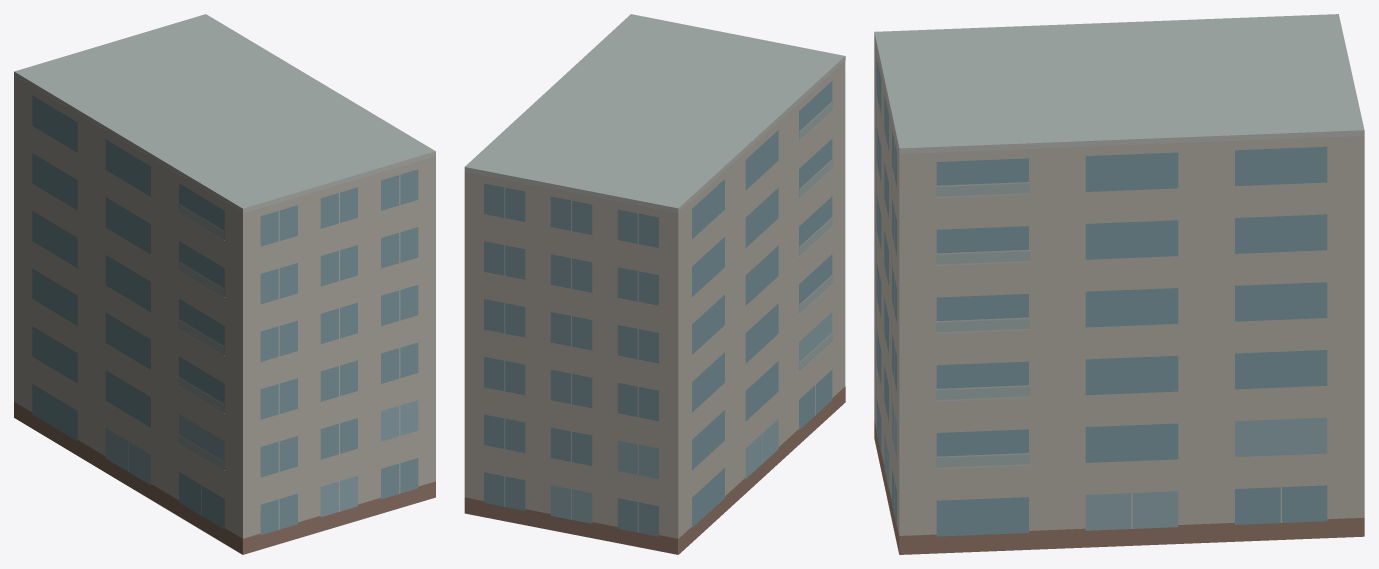
The model's file is survey-upis-33020794.glb.
The picture shows the model from 3 angles, left to right: view 1: azimuth 30°, elevation 25°; view 2: azimuth 150°, elevation 25°; view 3: azimuth 270°, elevation 25°; orthographic projection. The views are drawn at different scales.
Visible parts, largest first — view 1: survey-upis-33020794.tmp; view 2: survey-upis-33020794.tmp; view 3: survey-upis-33020794.tmp.
Boxes of the visible parts, x1=… form: survey-upis-33020794.tmp: x1=14, y1=14, x2=435, y2=554; survey-upis-33020794.tmp: x1=464, y1=14, x2=845, y2=554; survey-upis-33020794.tmp: x1=874, y1=14, x2=1364, y2=554.
Size of the model in its own units: 12.71 by 17.9 by 19.57.
